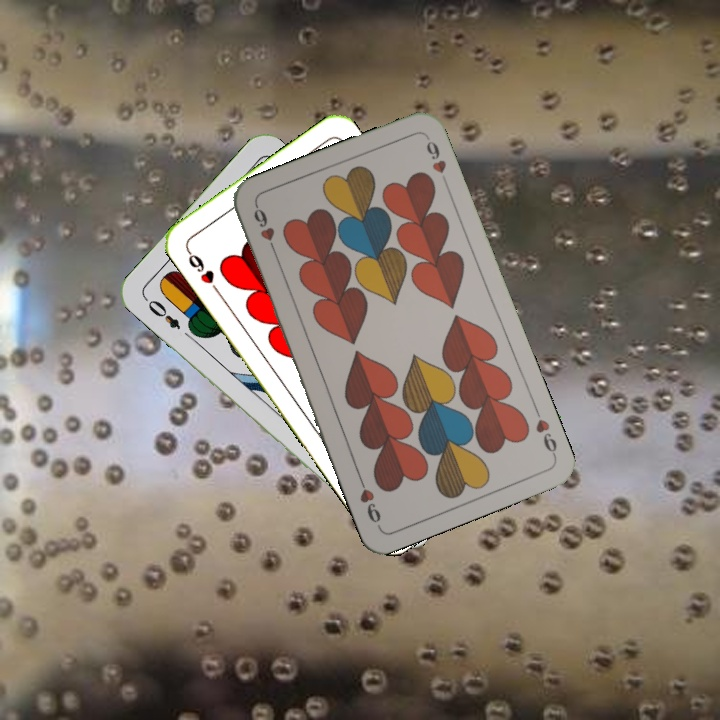EO: (140, 293, 183, 332)
H9: (182, 245, 223, 296), (249, 201, 280, 258), (530, 403, 560, 460)
